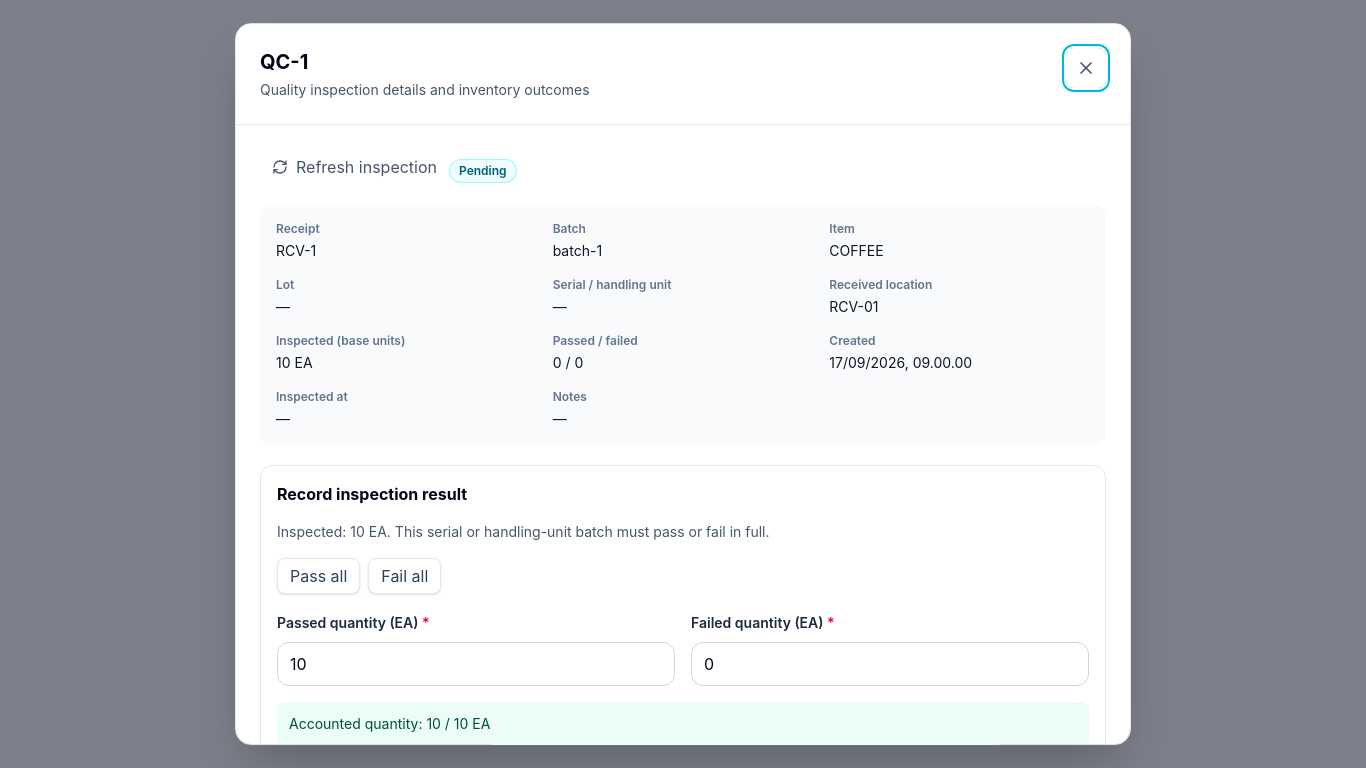
it: QC result workflow › blocks split results for an indivisible batch
The width and height of the screenshot is (1366, 768).
Step 1. Replace the text in the field labelled "Passed quantity (EA) *" with "8" → (476, 664), box [277,642,675,686]
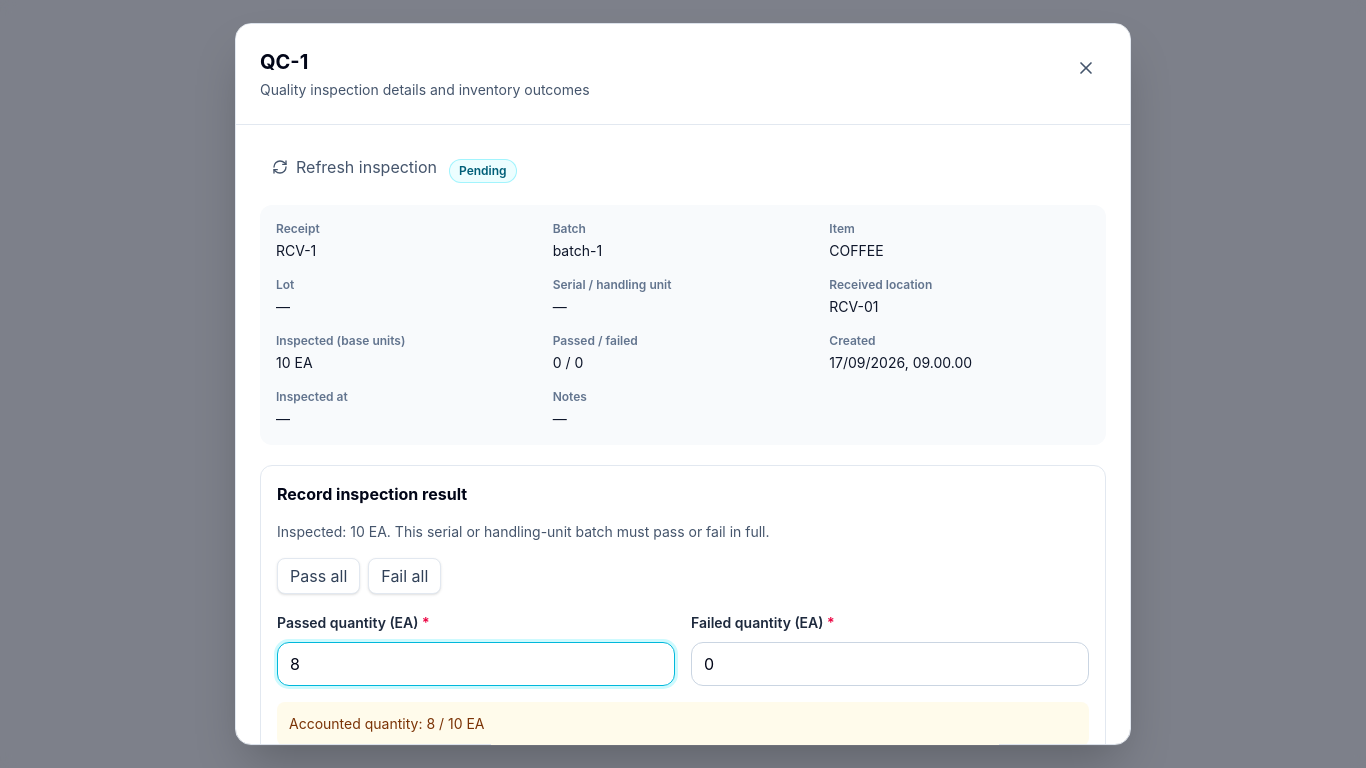
Step 2. Replace the text in the field labelled "Failed quantity (EA) *" with "2" → (890, 664), box [691,642,1089,686]
(page scrolled)
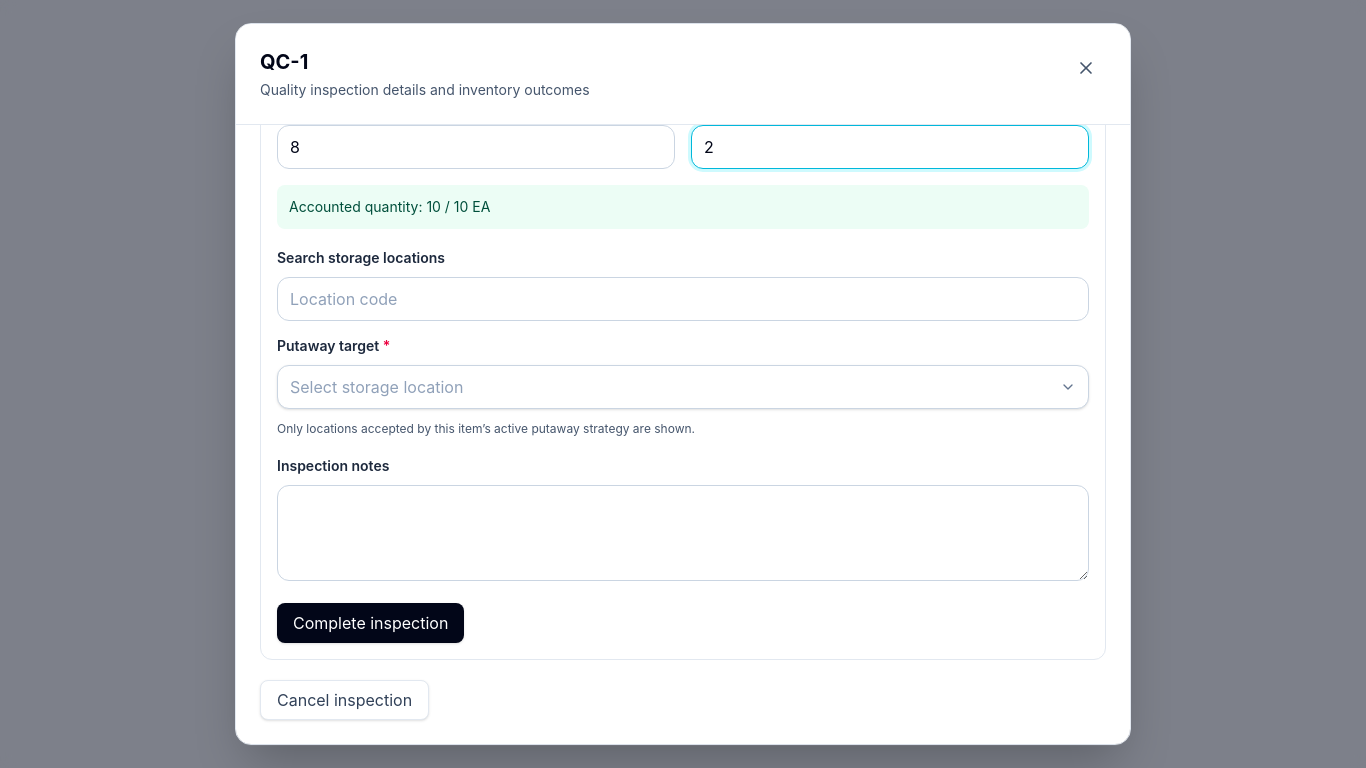
Step 3. Click the button "Complete inspection" → (371, 623), box [277,603,464,643]
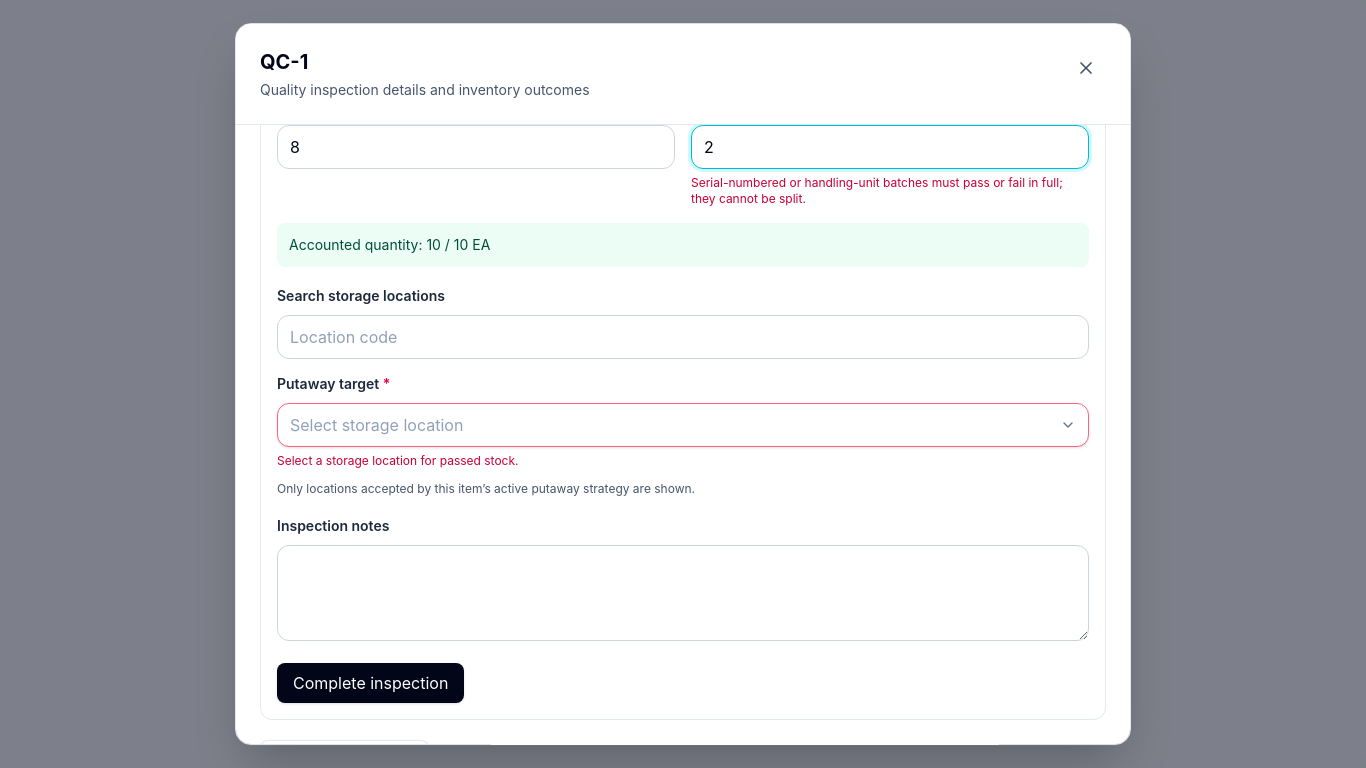
Result: the text "they cannot be split" is shown at [691,175,1063,206]
